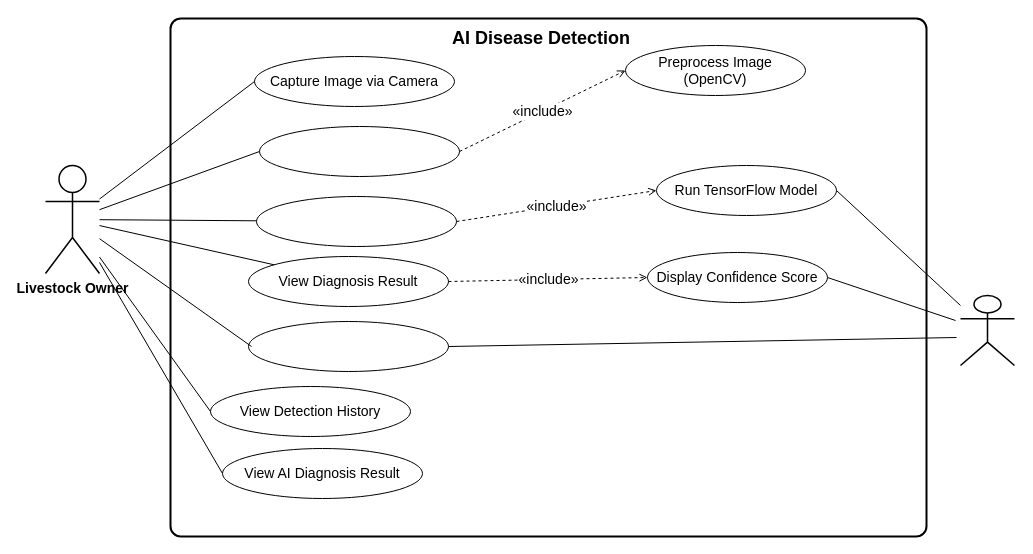
This 1033x554 diagram has some shape labels left out. The shapes that lost their labels are listed below. From the top down, each one's centre as x and y in pixels, then its label:
point (359, 151): Upload Animal Image
point (356, 221): Detect Disease (AI) LSD / FMD / Tick
point (348, 346): Body Condition Scoring
point (987, 330): AI Model
